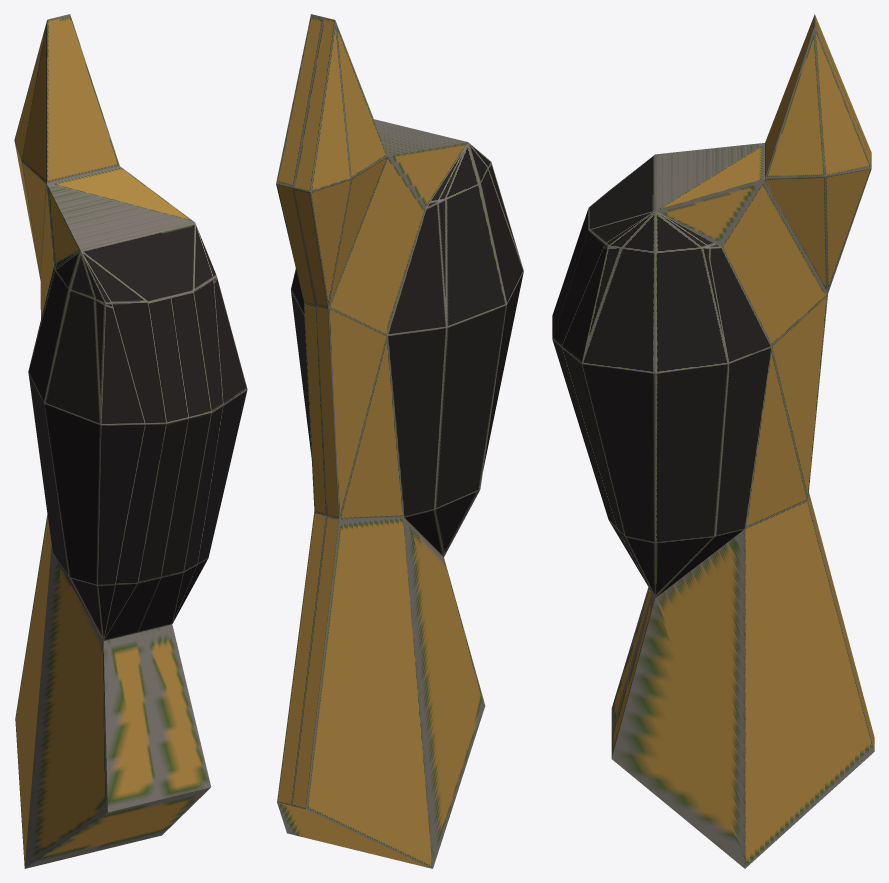
The model's file is LLeagUnder.fbx.
3 views of the same model, side by side, from view 1: azimuth 30°, elevation 25°; view 2: azimuth 150°, elevation 25°; view 3: azimuth 270°, elevation 25° (orthographic). The views are drawn at different scales.
Visible parts, largest first — view 1: Shape_IndexedFaceSet.058, Shape_IndexedFaceSet.057; view 2: Shape_IndexedFaceSet.057, Shape_IndexedFaceSet.058; view 3: Shape_IndexedFaceSet.057, Shape_IndexedFaceSet.058.
Part boxes in pixels (x1,y1,x2,y2): Shape_IndexedFaceSet.058: (28,222,247,640); Shape_IndexedFaceSet.057: (14,14,210,868); Shape_IndexedFaceSet.057: (276,14,485,868); Shape_IndexedFaceSet.058: (291,142,523,556); Shape_IndexedFaceSet.057: (611,14,874,868); Shape_IndexedFaceSet.058: (552,154,771,597).
Bounding box in the file's own units: 0.1349 × 0.5573 × 0.1998.
